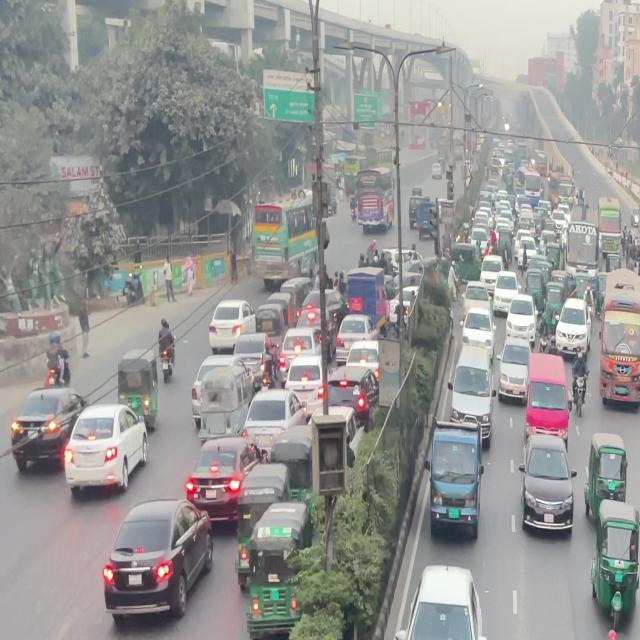bus: (595, 271, 640, 409)
car: (103, 502, 220, 624), (61, 400, 151, 500), (188, 435, 273, 517), (399, 562, 487, 640), (6, 391, 85, 474), (520, 429, 580, 534), (187, 338, 248, 418), (450, 345, 496, 447), (516, 349, 568, 412), (552, 290, 593, 346), (210, 304, 250, 351), (498, 299, 540, 335)
motorbike: (158, 315, 182, 384), (578, 626, 640, 639)
rickshaw: (241, 497, 316, 640), (587, 502, 640, 622)
van: (426, 426, 485, 540)
